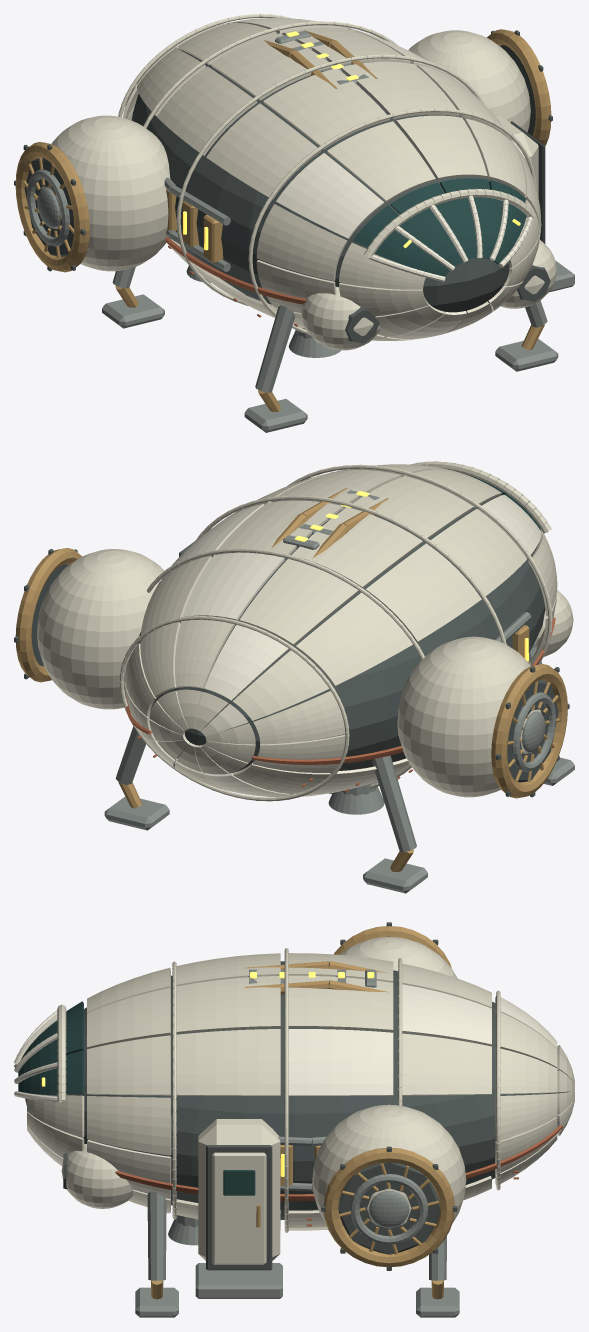
3 views of the same model, one above another, from view 1: azimuth 30°, elevation 25°; view 2: azimuth 150°, elevation 25°; view 3: azimuth 270°, elevation 25° (orthographic). The views are drawn at different scales.
Visible parts, largest first — view 1: RE-072 Aurora rounded shell lunar ferry batched; view 2: RE-072 Aurora rounded shell lunar ferry batched; view 3: RE-072 Aurora rounded shell lunar ferry batched.
Boxes of the visible parts, x1,y1,x2,y2 form: RE-072 Aurora rounded shell lunar ferry batched: (14, 14, 574, 432); RE-072 Aurora rounded shell lunar ferry batched: (14, 461, 574, 893); RE-072 Aurora rounded shell lunar ferry batched: (14, 922, 574, 1317).
Size of the model in its own units: 6.38 by 3.58 by 6.55.
